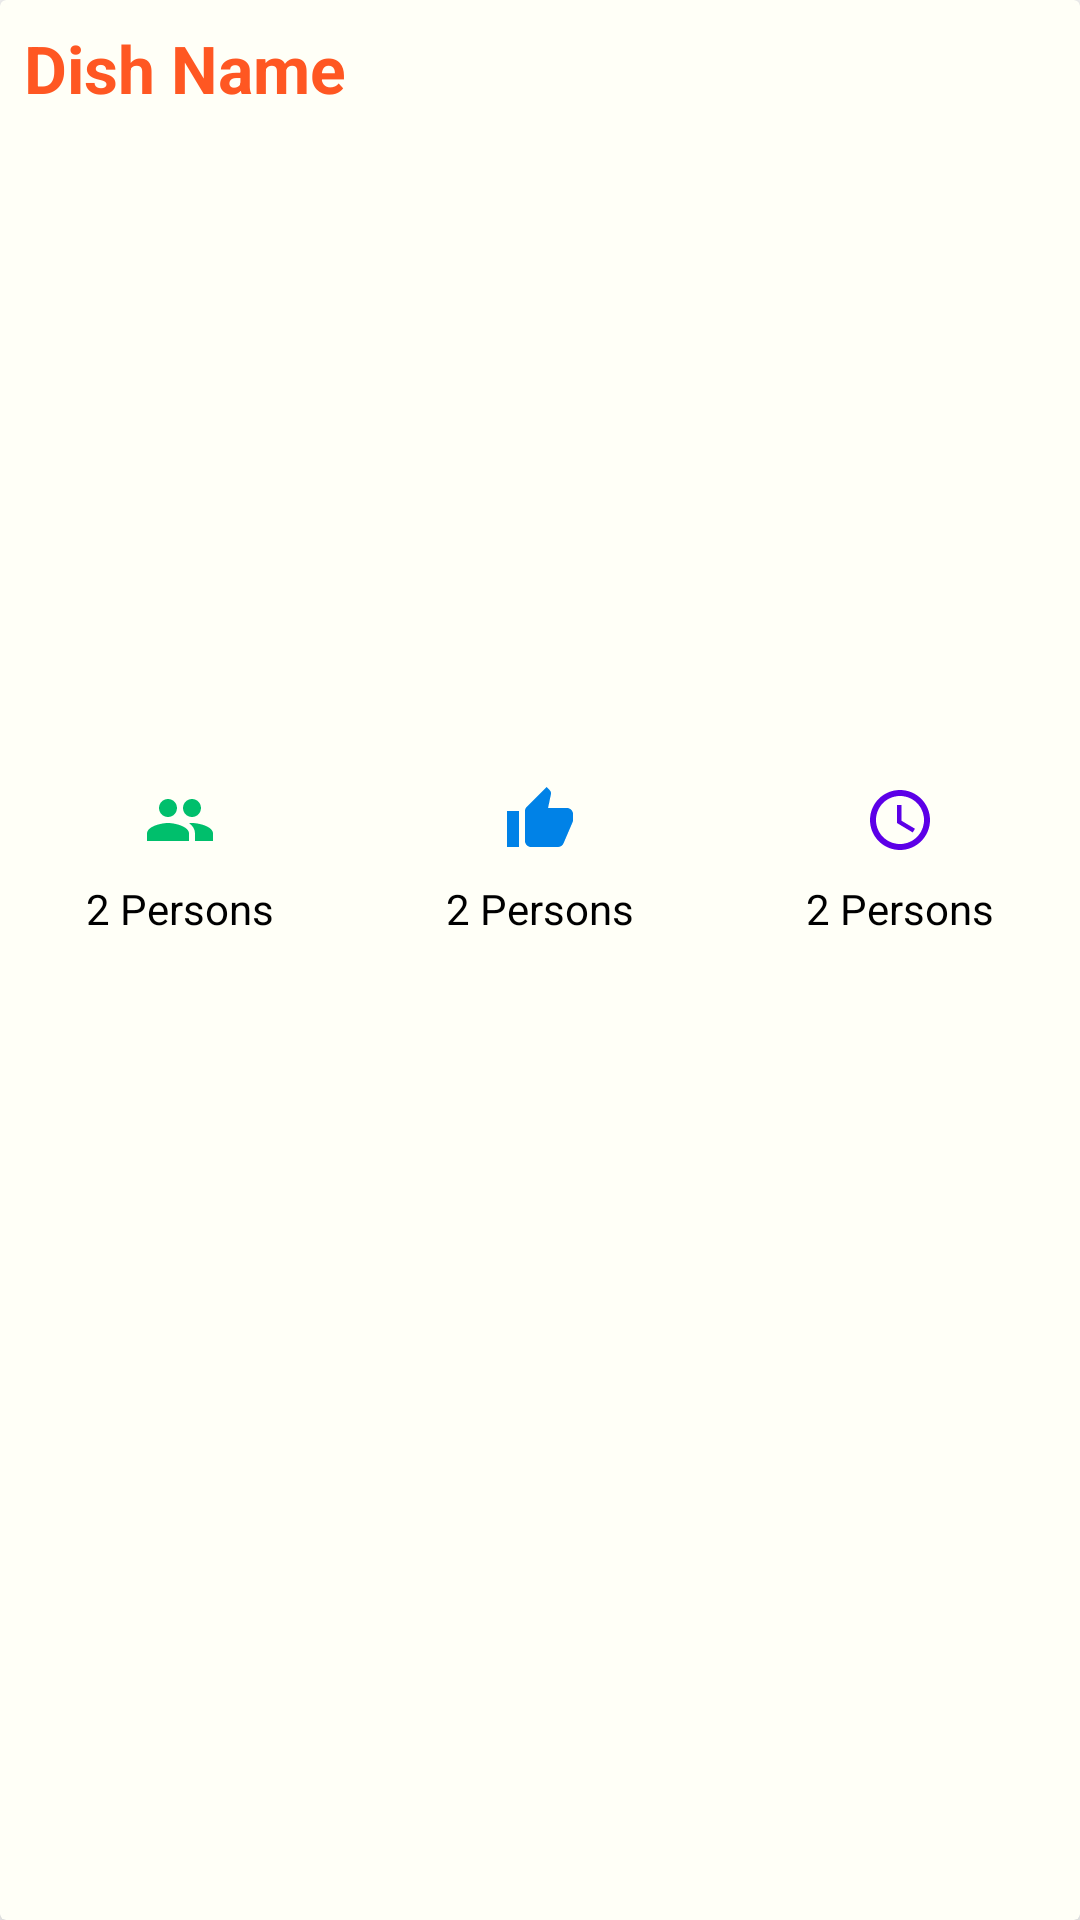

Named icons in this screenshot (1080px×1920px) and their bounding boxes, [left=x1, top=y1, right=x2, bottom=y2]:
like: [left=507, top=787, right=573, bottom=847]
servings: [left=147, top=799, right=213, bottom=841]
time: [left=870, top=790, right=930, bottom=850]
